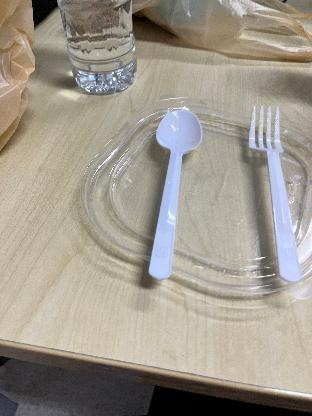Others: (136, 92, 212, 289), (138, 92, 214, 288), (252, 82, 296, 294)
